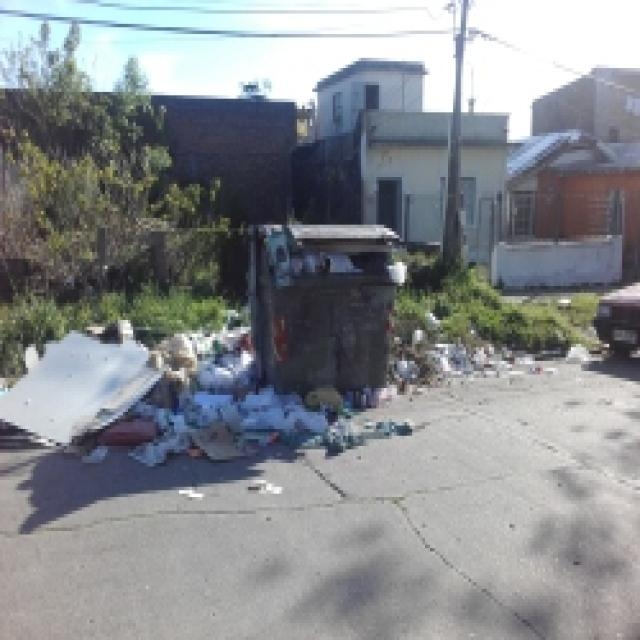garbage: (15, 313, 241, 453), (233, 381, 358, 443), (384, 313, 504, 364)
